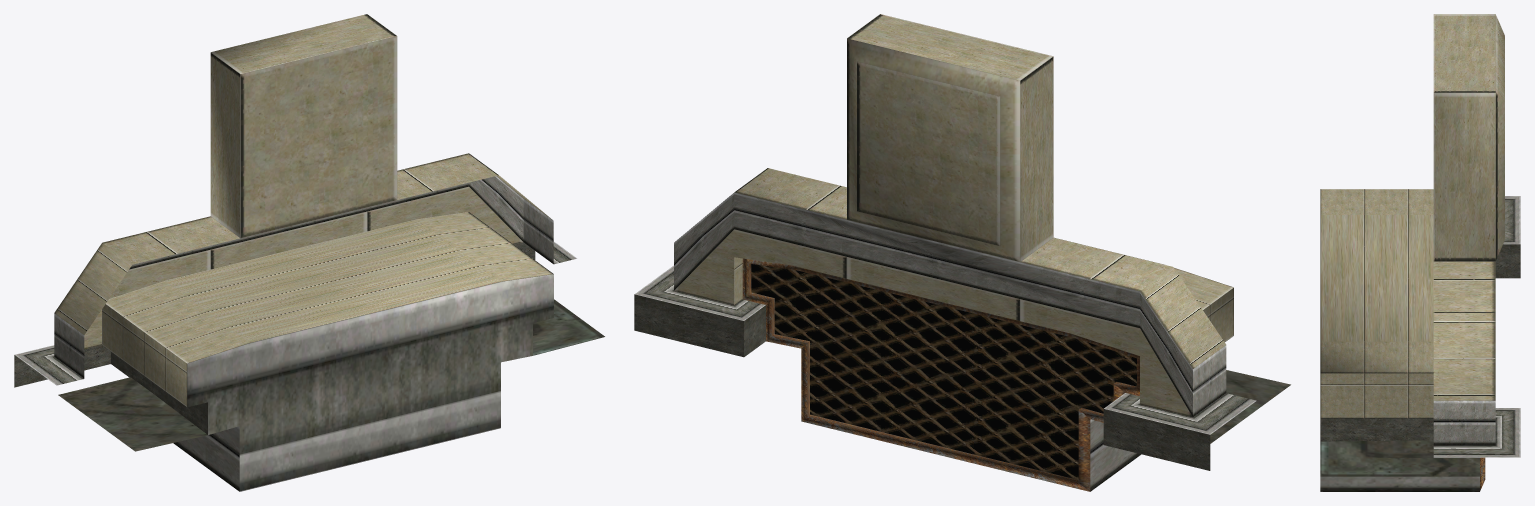
Rendered from DWARF_PALACE_WATERROOM_CANAL_VENT06.fbx.
3 views of the same model, side by side, from view 1: azimuth 30°, elevation 25°; view 2: azimuth 150°, elevation 25°; view 3: azimuth 270°, elevation 25° (orthographic). The views are drawn at different scales.
Visible parts, largest first — view 1: DWARF_PALACE_WATERROOM_CANAL_VENT06; view 2: DWARF_PALACE_WATERROOM_CANAL_VENT06; view 3: DWARF_PALACE_WATERROOM_CANAL_VENT06.
Boxes of the visible parts, box(x1,y1,x2,y2) form: DWARF_PALACE_WATERROOM_CANAL_VENT06: box(14, 14, 604, 491); DWARF_PALACE_WATERROOM_CANAL_VENT06: box(634, 14, 1290, 491); DWARF_PALACE_WATERROOM_CANAL_VENT06: box(1320, 14, 1520, 491).
Size of the model in its own units: 49831 by 33273 by 16097.
Materials: 7 (7 with a texture image).
